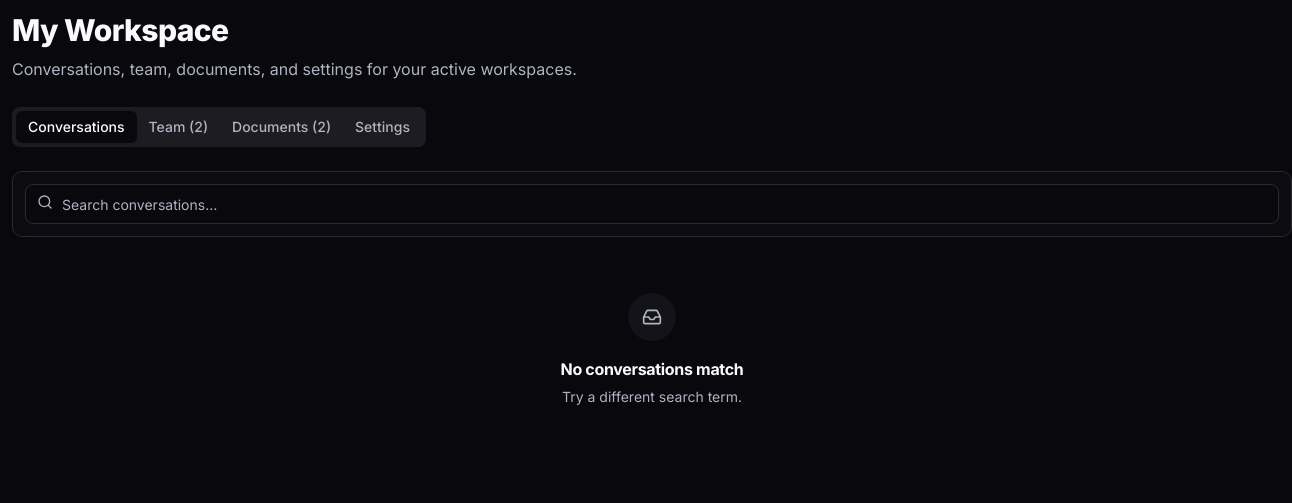
Test: MyWorkspace: real backend wiring › renders documents from /documents
The width and height of the screenshot is (1292, 503).
Click the tab "Documents (2)": (282, 127) [220, 111, 343, 143]
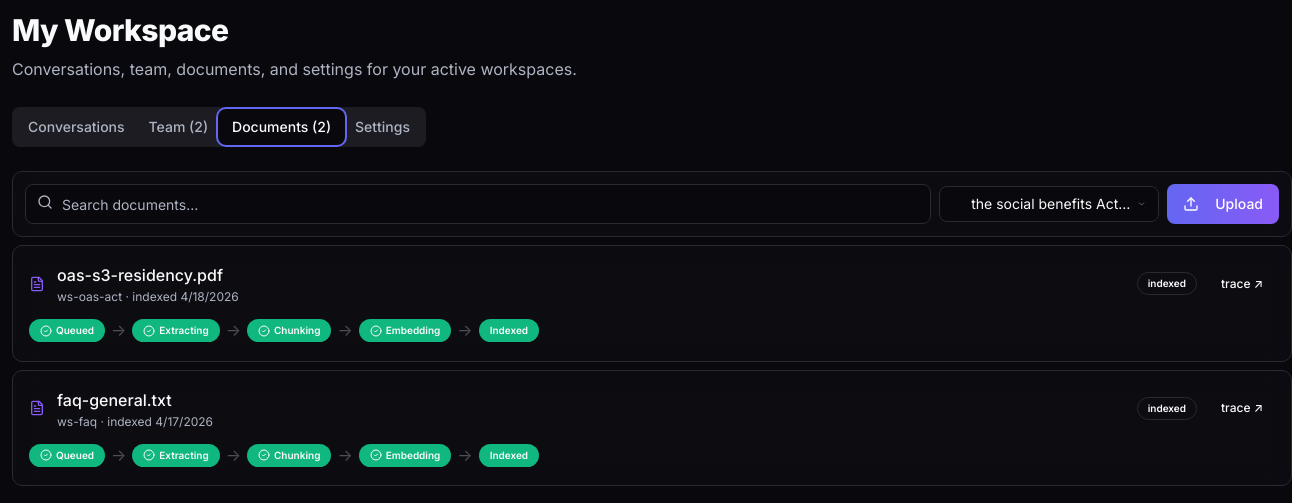
Result: the text "oas-s3-residency.pdf" is shown at [57, 265, 223, 285]
Result: the text "faq-general.txt" is shown at [57, 390, 172, 410]
